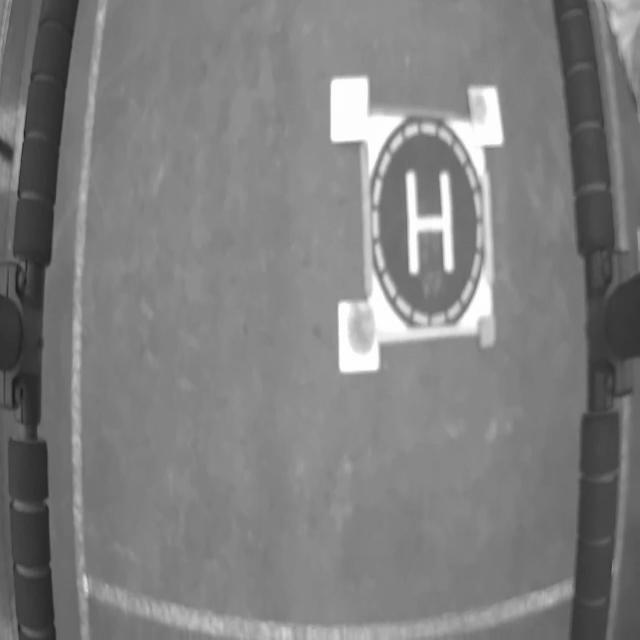Helipad: (405, 171, 455, 276)
